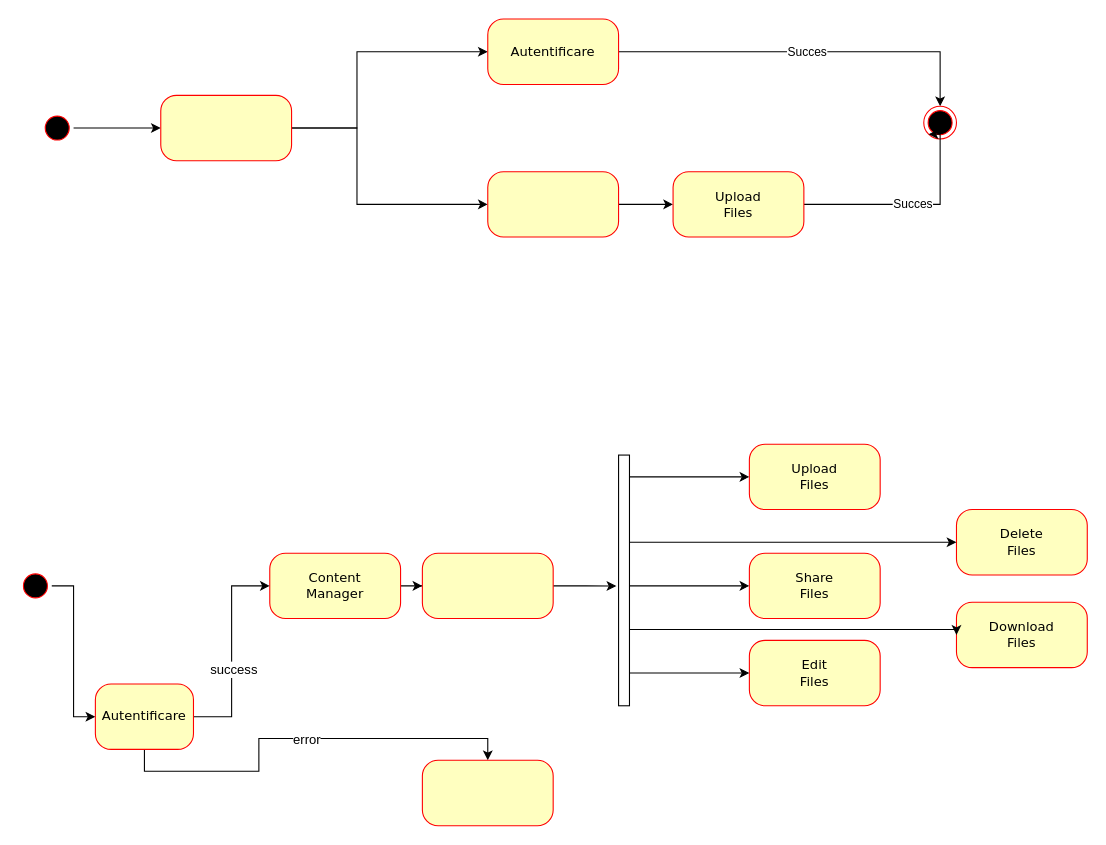
Some shapes in this 1106 by 845 pixel diagram are drawn without their labels. The centre of each missing label's shape, as x and y in pixels:
"Acasa" belongs at point (226, 127).
"Account recovery" belongs at point (487, 792).
"Fara Autentificare" belongs at point (553, 204).
"Select Files" belongs at point (487, 585).
